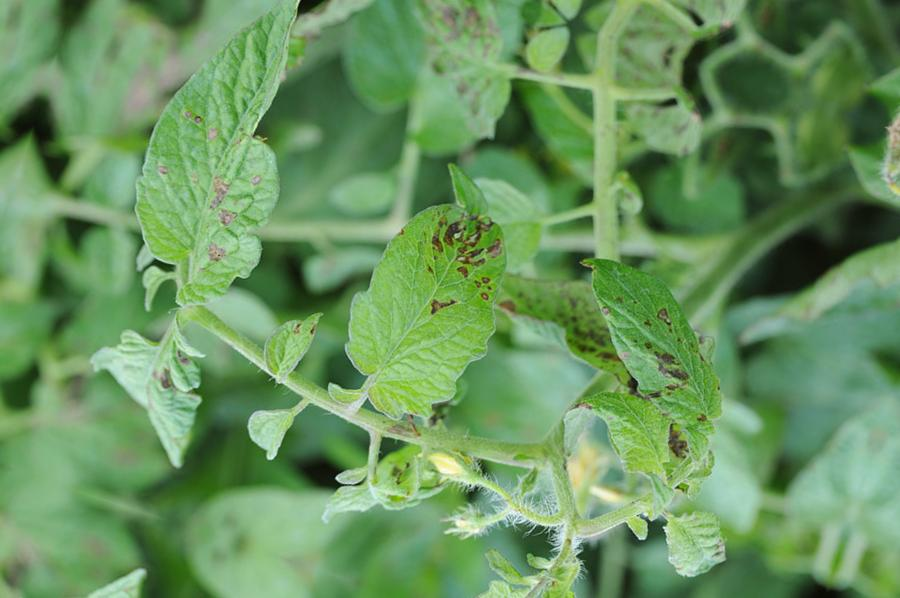Tomato leaf bacterial spot: (104, 0, 361, 312), (318, 145, 532, 436), (561, 238, 780, 480)
